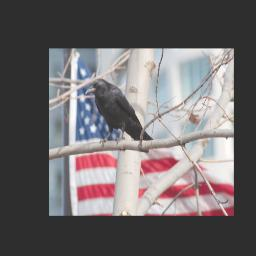Crow: (85, 77, 155, 150)
